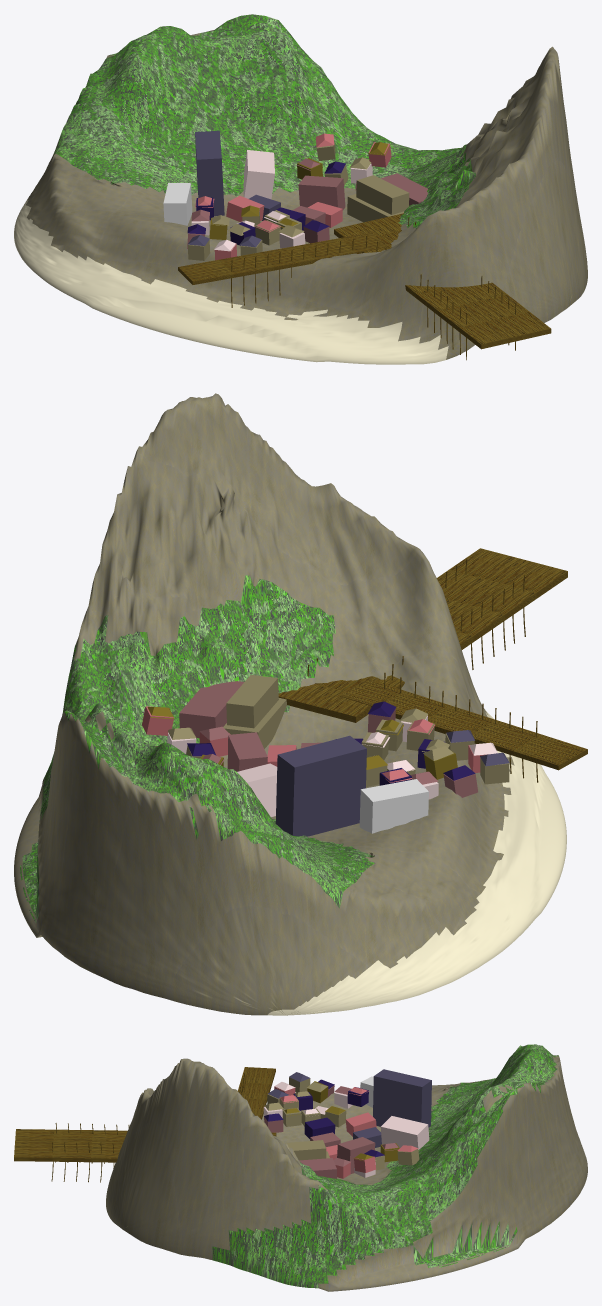
Rendered from mainIsland.FBX.
The picture shows the model from 3 angles, top to bottom: view 1: azimuth 30°, elevation 25°; view 2: azimuth 150°, elevation 25°; view 3: azimuth 270°, elevation 25°; orthographic projection. The views are drawn at different scales.
Visible parts, largest first — view 1: Sphere001, Box007, Box022, Box004 (×2), Box002, Box028, Box005, Box008, Box006, Box009, Box001; view 2: Sphere001, Box007, Box002, Box022, Box004 (×2), Box028, Box006, Box005, Box008; view 3: Sphere001, Box007, Box002, Box022, Box004, Box005, Box028, Box006, Box027, Box009, Box010.
Boxes of the visible parts, x1,y1,x2,y2 form: Sphere001: [14, 14, 587, 364]; Box007: [334, 213, 551, 349]; Box022: [178, 232, 386, 284]; Box004 (×2): [163, 150, 274, 225]; Box002: [195, 130, 224, 216]; Box028: [356, 175, 409, 214]; Box005: [298, 175, 345, 210]; Box008: [347, 194, 403, 222]; Box006: [381, 173, 427, 205]; Box009: [226, 195, 264, 222]; Box001: [308, 202, 342, 227]; Sphere001: [14, 393, 566, 1015]; Box007: [278, 548, 567, 722]; Box002: [275, 735, 366, 836]; Box022: [340, 679, 587, 770]; Box004 (×2): [237, 763, 428, 833]; Box028: [226, 675, 278, 728]; Box006: [179, 681, 243, 738]; Box005: [227, 732, 267, 771]; Box008: [223, 698, 286, 748]; Sphere001: [106, 1044, 587, 1291]; Box007: [14, 1129, 276, 1162]; Box002: [373, 1069, 431, 1127]; Box022: [238, 1067, 275, 1119]; Box004: [380, 1116, 429, 1149]; Box005: [337, 1137, 375, 1173]; Box028: [285, 1140, 326, 1160]; Box006: [299, 1158, 336, 1178]; Box027: [304, 1117, 335, 1139]; Box009: [345, 1112, 376, 1136]; Box010: [353, 1127, 381, 1147].
Bounding box in the file's own units: 4244 × 2522 × 6064.
